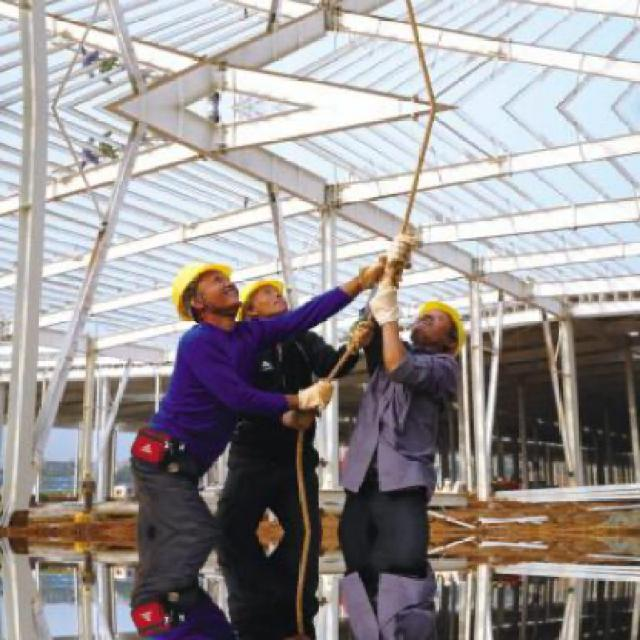helmet: (169, 258, 246, 324), (409, 296, 468, 350), (240, 272, 292, 318)
